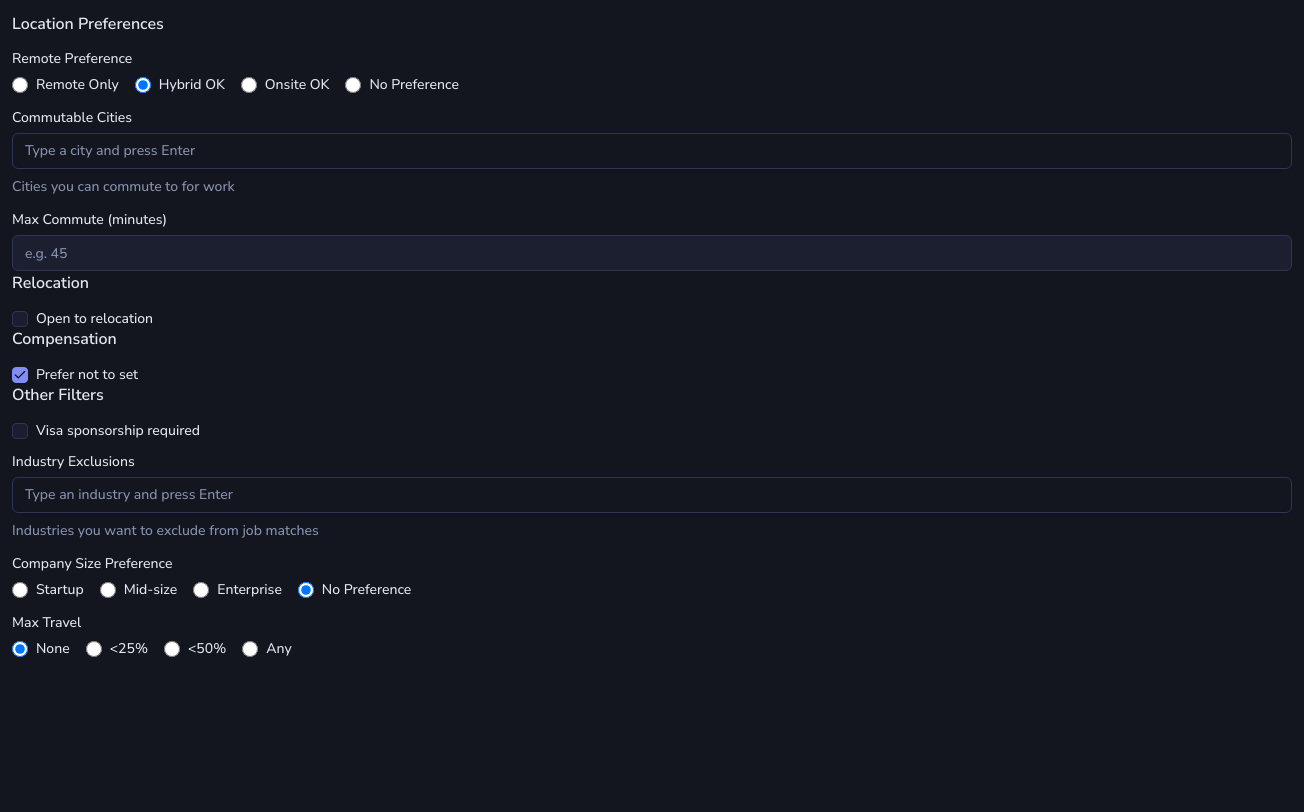
NonNegotiablesFormFields › commute field visibility › toggles commute fields when switching remote preference
Expected: the field labelled "Commutable Cities" is shown, [25,141,1279,161]
Click the radio button labelled "Remote Only".
click(20, 84)  # box [12,76,28,92]
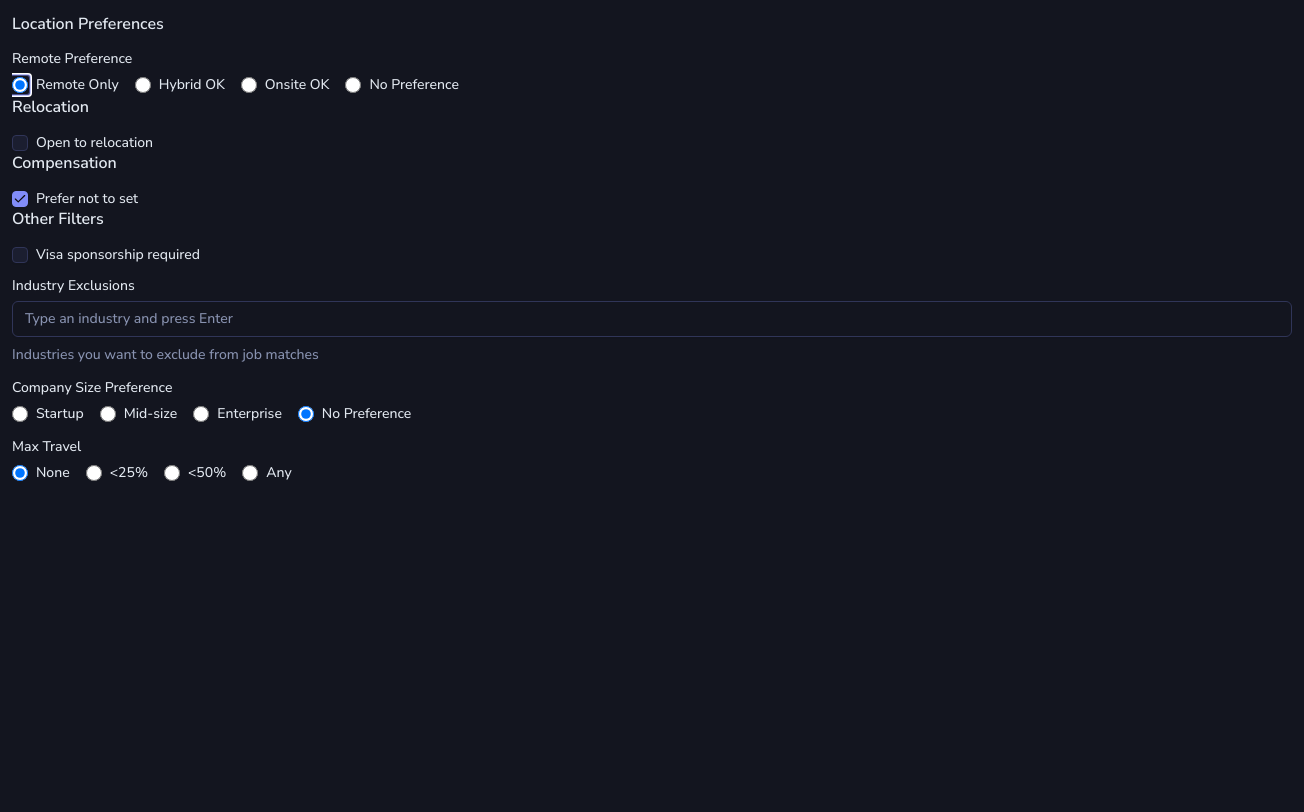
Expected: the label labelled "Commutable Cities" is gone
Click the radio button labelled "Onsite OK".
click(249, 84)  # box [241,76,257,92]
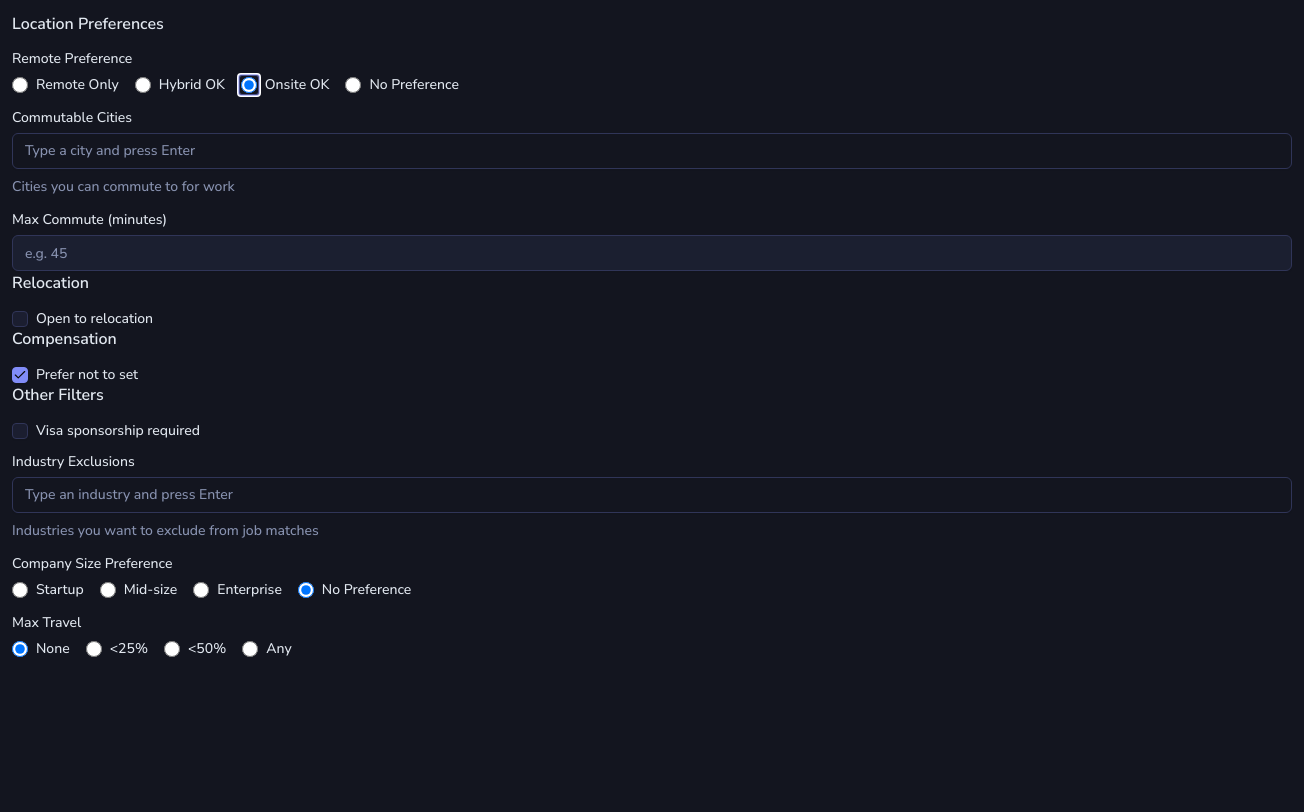
Expected: the field labelled "Commutable Cities" is shown, [25,141,1279,161]
